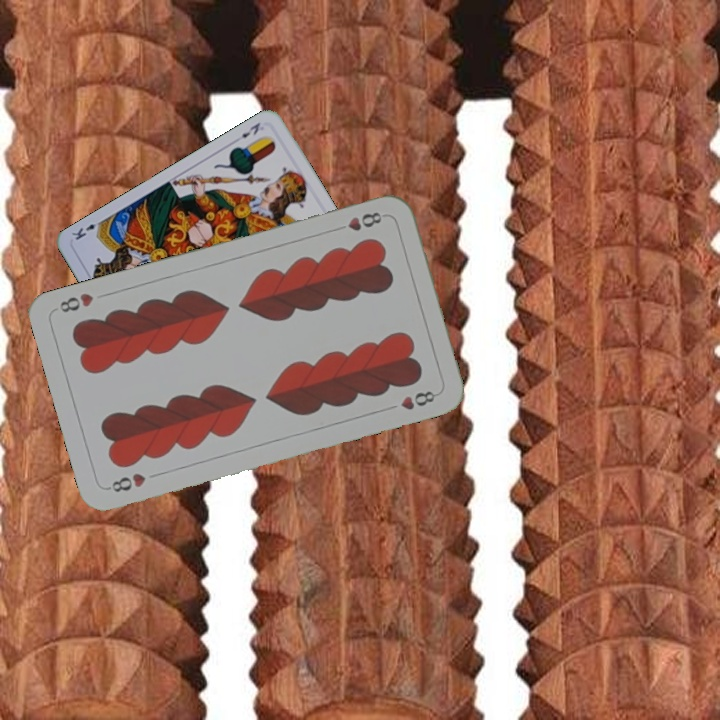EK: (237, 118, 263, 140)
H8: (330, 208, 384, 234), (103, 469, 149, 495)
